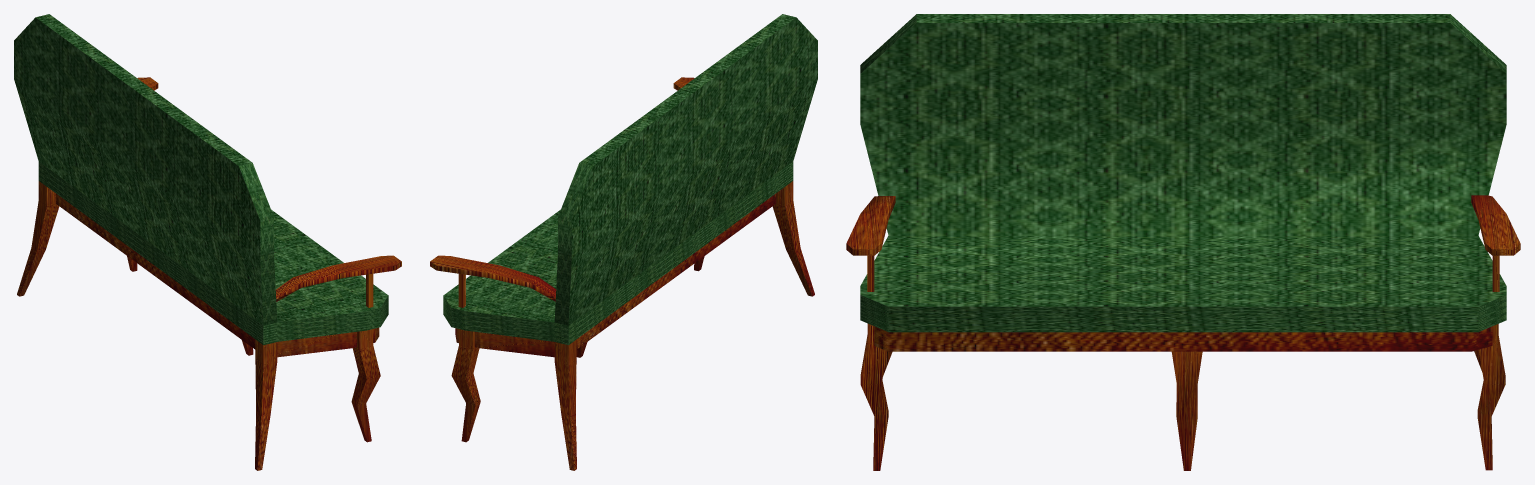
File: couch.obj
3 renders of one model, left to right at view 1: azimuth 30°, elevation 25°; view 2: azimuth 150°, elevation 25°; view 3: azimuth 270°, elevation 25°, orthographic. The views are drawn at different scales.
Visible parts, largest first — view 1: br_couch; view 2: br_couch; view 3: br_couch.
Part boxes in pixels (x1=…): br_couch: x1=14, y1=14, x2=401, y2=470; br_couch: x1=430, y1=14, x2=817, y2=470; br_couch: x1=846, y1=14, x2=1520, y2=470.
Size of the model in its own units: 29.98 by 60.06 by 95.98.
Materials: 1 (1 with a texture image).
